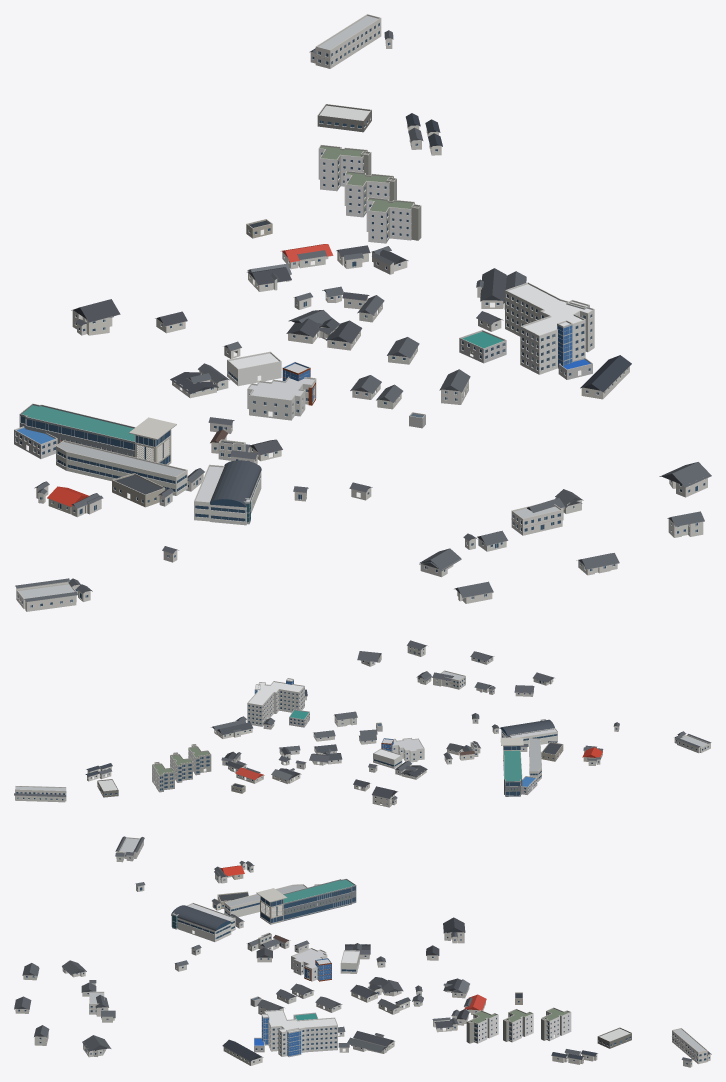
Rendered from buildings.glb.
3 views of the same model, one above another, from view 1: azimuth 30°, elevation 25°; view 2: azimuth 150°, elevation 25°; view 3: azimuth 270°, elevation 25° (orthographic). The views are drawn at different scales.
Parts seen in each view (by area): view 1: girls_dorm, main_east, main_west, taecho, remnant, vw56, mideum, sarang, somang, part_main_east_3, gym, se_long (+9 smaller); view 2: girls_dorm, main_east, remnant, taecho, sarang, mideum, main_west, somang, amen, gym, vw56, vw43 (+9 smaller); view 3: girls_dorm, main_east, taecho, main_west, part_main_east_3, remnant, vw56, sarang, somang, mideum, se_long, kinder (+5 smaller).
Part boxes in pixels (x1=…): girls_dorm: x1=505, y1=282, x2=594, y2=374; main_east: x1=19, y1=403, x2=135, y2=456; main_west: x1=56, y1=440, x2=187, y2=495; taecho: x1=209, y1=460, x2=261, y2=525; remnant: x1=247, y1=376, x2=316, y2=420; vw56: x1=315, y1=14, x2=381, y2=68; mideum: x1=366, y1=197, x2=414, y2=243; sarang: x1=318, y1=145, x2=367, y2=191; somang: x1=344, y1=171, x2=393, y2=217; part_main_east_3: x1=129, y1=417, x2=176, y2=465; gym: x1=227, y1=351, x2=281, y2=386; se_long: x1=580, y1=355, x2=631, y2=399; girls_dorm: x1=247, y1=681, x2=304, y2=726; main_east: x1=503, y1=750, x2=522, y2=796; remnant: x1=392, y1=737, x2=424, y2=762; taecho: x1=500, y1=719, x2=554, y2=737; sarang: x1=152, y1=763, x2=174, y2=792; mideum: x1=188, y1=746, x2=211, y2=775; main_west: x1=529, y1=738, x2=541, y2=781; somang: x1=170, y1=754, x2=192, y2=782; amen: x1=509, y1=728, x2=557, y2=746; gym: x1=373, y1=748, x2=402, y2=768; vw56: x1=15, y1=786, x2=66, y2=801; vw43: x1=14, y1=793, x2=66, y2=802; girls_dorm: x1=264, y1=1009, x2=337, y2=1056; main_east: x1=277, y1=878, x2=356, y2=920; taecho: x1=171, y1=905, x2=231, y2=941; main_west: x1=224, y1=884, x2=307, y2=917; part_main_east_3: x1=256, y1=888, x2=287, y2=924; remnant: x1=291, y1=948, x2=327, y2=981; vw56: x1=672, y1=1028, x2=707, y2=1063; sarang: x1=542, y1=1007, x2=571, y2=1040; somang: x1=505, y1=1009, x2=533, y2=1042; mideum: x1=471, y1=1010, x2=498, y2=1043; se_long: x1=222, y1=1039, x2=263, y2=1065; kinder: x1=597, y1=1027, x2=631, y2=1048.
Size of the model in its own units: 385 by 40.98 by 450.
